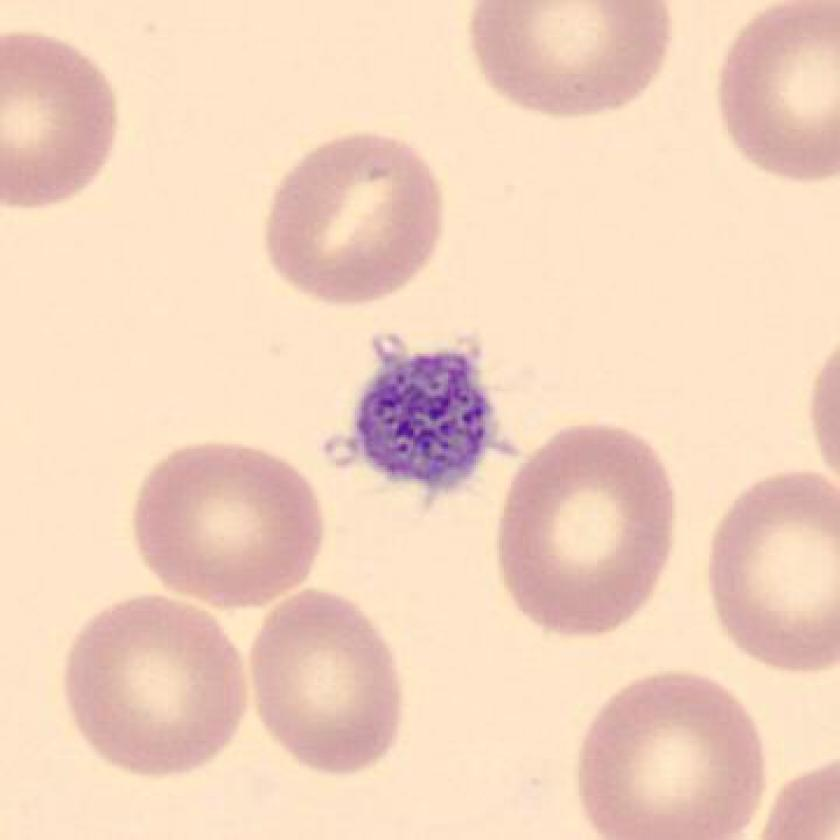platelets: (335, 335, 526, 513)
